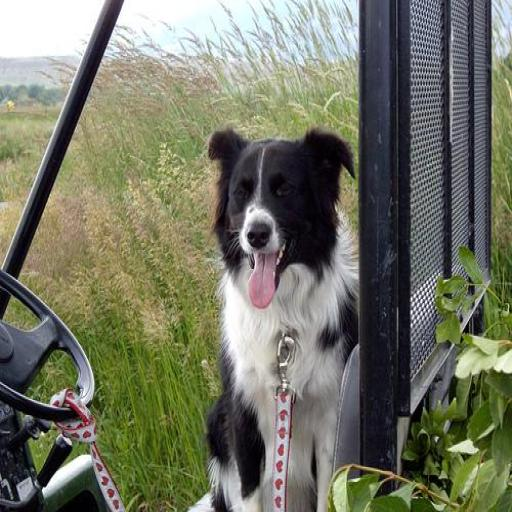dog_face: (208, 121, 354, 305)
